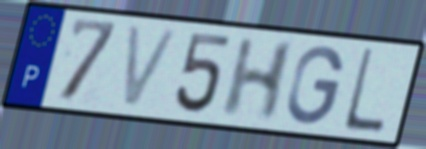5: (174, 31, 235, 116)
7: (57, 16, 121, 105)
G: (285, 43, 347, 127)
H: (217, 36, 299, 123)
L: (339, 46, 387, 137)
V: (119, 22, 183, 111)
